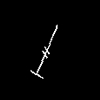treble_crochet: (31, 26, 56, 77)
